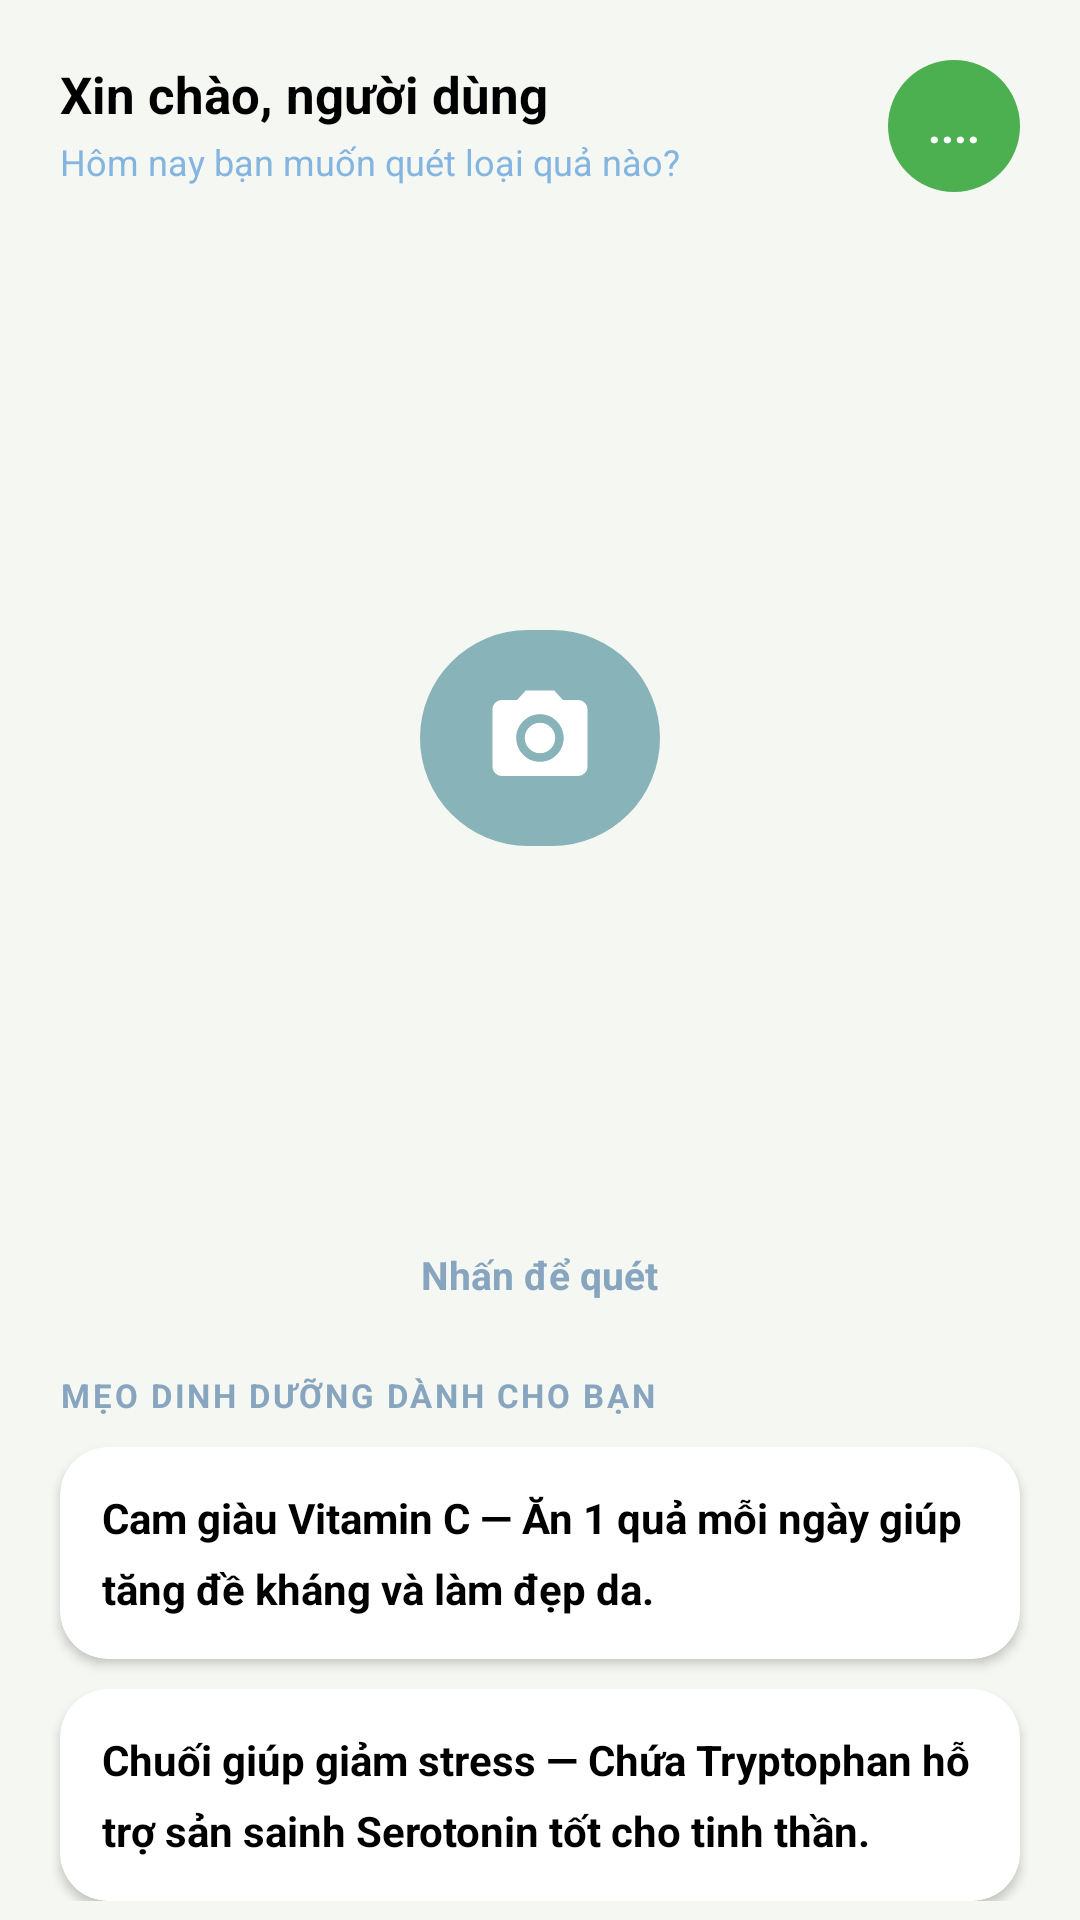

Icon bounding boxes for this 1080 × 1920 phone screenshot, format [left=x1, top=y1, right=x2, bottom=y2]:
Nút Quét hoa quả: [left=420, top=630, right=660, bottom=846]
